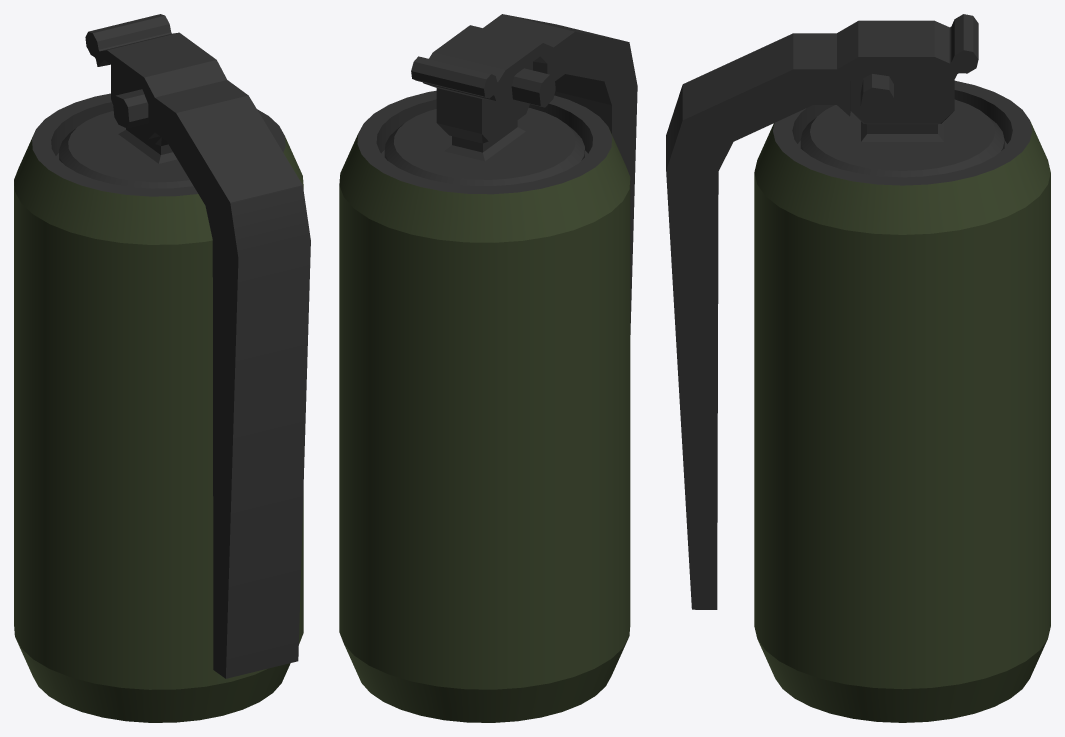
Rendered from grenade.glb.
The picture shows the model from 3 angles, left to right: view 1: azimuth 30°, elevation 25°; view 2: azimuth 150°, elevation 25°; view 3: azimuth 270°, elevation 25°; orthographic projection. The views are drawn at different scales.
Parts seen in each view (by area): view 1: Cylinder; view 2: Cylinder; view 3: Cylinder.
Boxes of the visible parts, x1=… form: Cylinder: x1=14, y1=14, x2=310, y2=722; Cylinder: x1=339, y1=14, x2=637, y2=722; Cylinder: x1=666, y1=14, x2=1050, y2=722.
Bounding box in the file's own units: 0.07 × 0.1657 × 0.0908.
